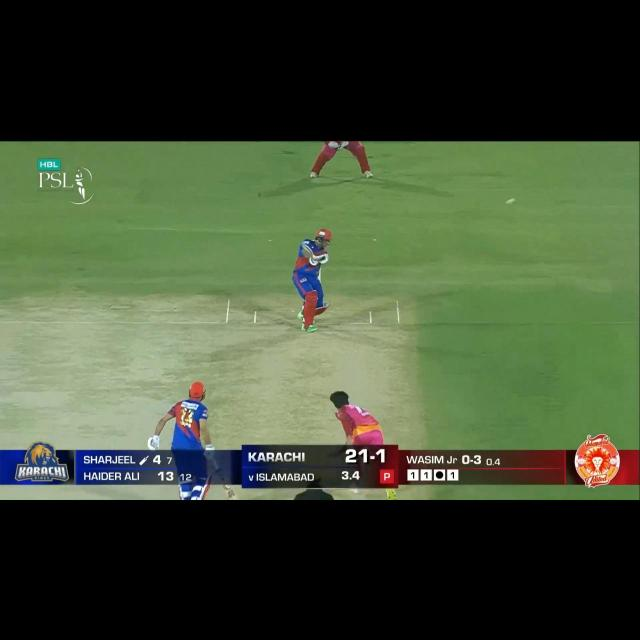bat: (222, 486, 239, 500)
